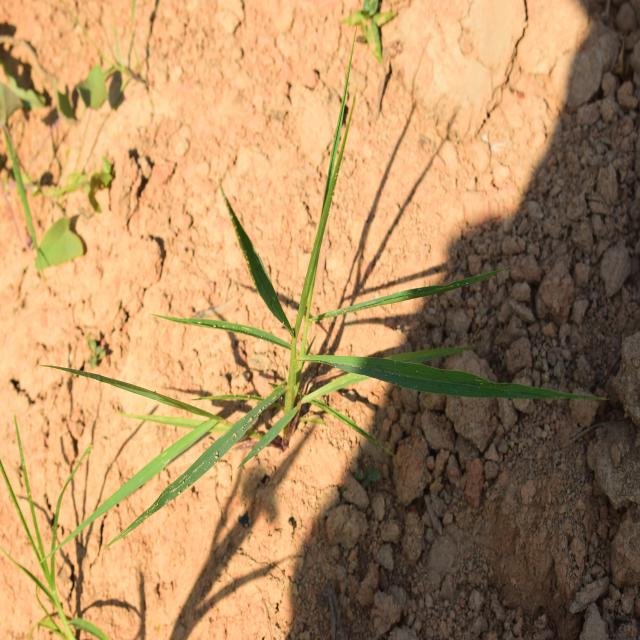green_foxtail: (149, 215, 491, 483)
